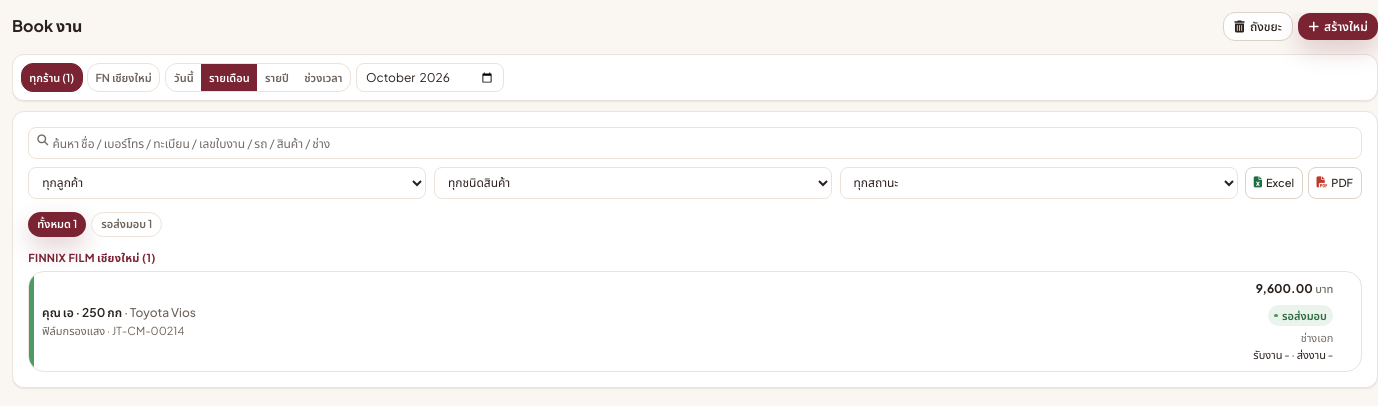
Test: TicketList — ค้นหา › finds a job by the ใบงาน number
This screenshot has width=1378, height=406.
Replace the text in the field named "ค้นหาใบงาน" with "00212": (695, 143) [28, 128, 1362, 159]
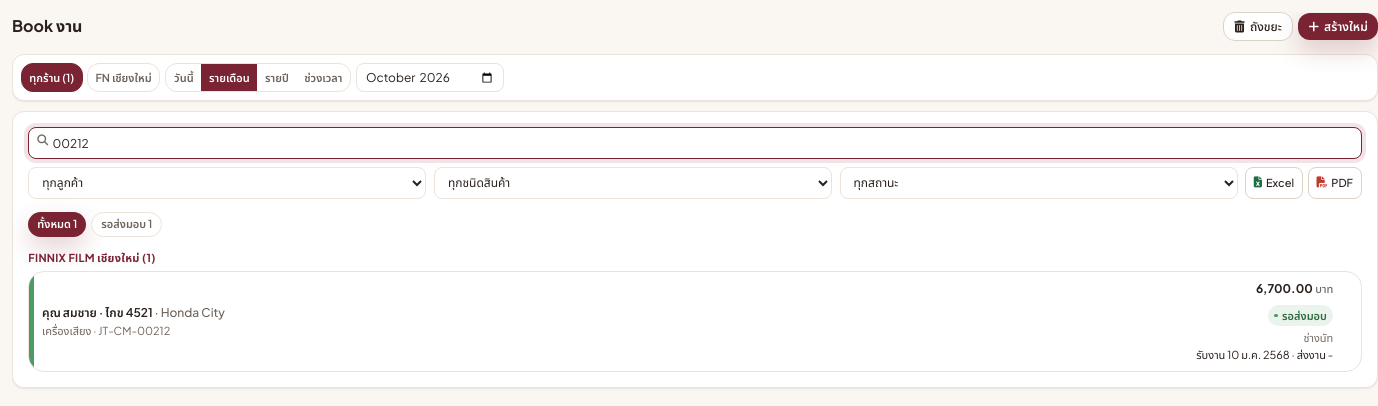
Now the text "คุณ สมชาย · ไกข 4521" is shown, box [42, 304, 225, 321]
Now the link "คุณ เอ · 250 กก" is gone
